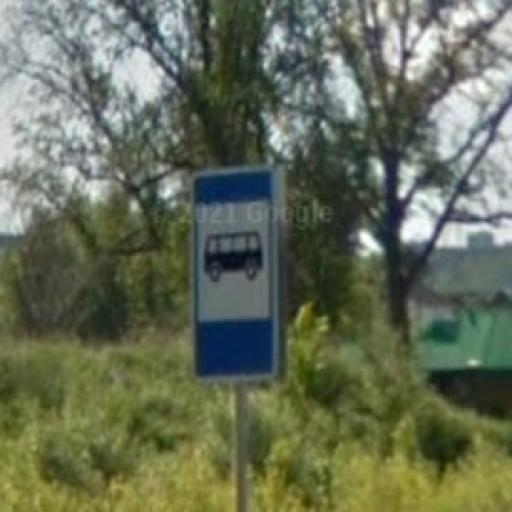traffic_sign: (191, 168, 279, 383)
